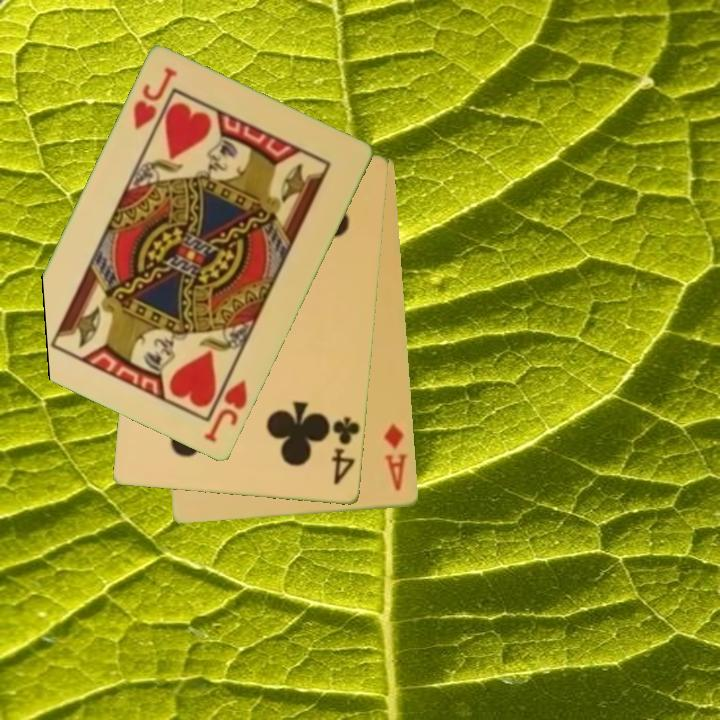4c: (328, 414, 363, 488)
Ad: (381, 421, 411, 494)
Jh: (200, 364, 251, 446), (129, 64, 180, 133)
